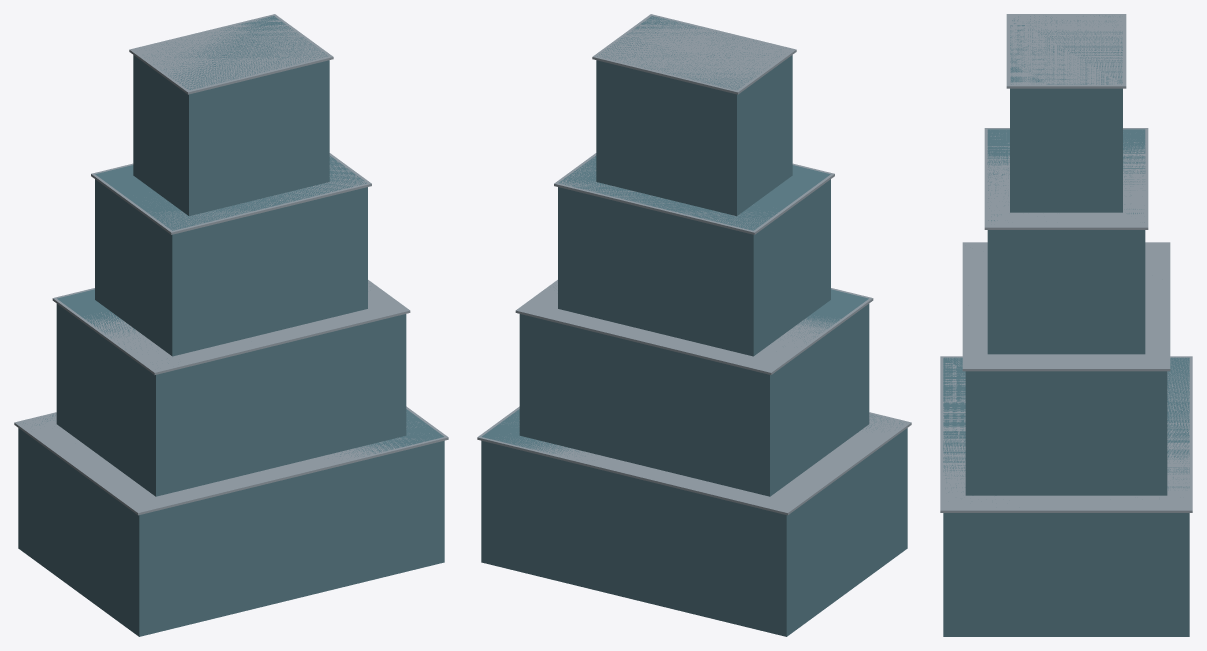
3 renders of one model, left to right at view 1: azimuth 30°, elevation 25°; view 2: azimuth 150°, elevation 25°; view 3: azimuth 270°, elevation 25°, orthographic.
Visible parts, largest first — view 1: worldgen; view 2: worldgen; view 3: worldgen.
Part boxes in pixels (bbox=[...]): worldgen: bbox=[14, 14, 448, 636]; worldgen: bbox=[477, 14, 911, 636]; worldgen: bbox=[940, 14, 1192, 636].
Bounding box in the file's own units: 71.2 × 110 × 49.2.
